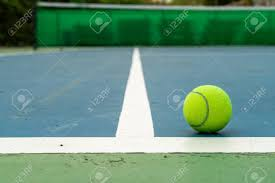tennis_ball: (182, 83, 232, 133)
